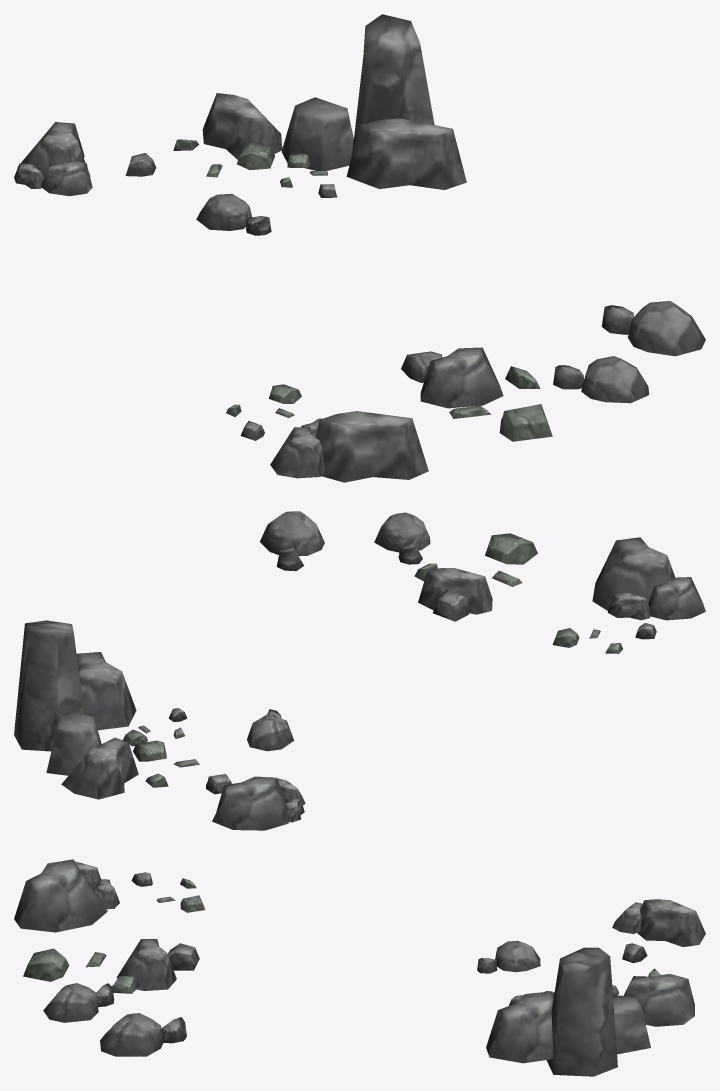
Rendered from Area_03_2.fbx.
3 views of the same model, one above another, from view 1: azimuth 30°, elevation 25°; view 2: azimuth 150°, elevation 25°; view 3: azimuth 270°, elevation 25° (orthographic). The views are drawn at different scales.
Parts seen in each view (by area): view 1: Area_03_2; view 2: Area_03_2; view 3: Area_03_2.
Boxes of the visible parts, x1=… form: Area_03_2: x1=14, y1=14, x2=705, y2=482; Area_03_2: x1=14, y1=511, x2=705, y2=830; Area_03_2: x1=14, y1=859, x2=705, y2=1076.
Bounding box in the file's own units: 1919 × 522 × 3015.
